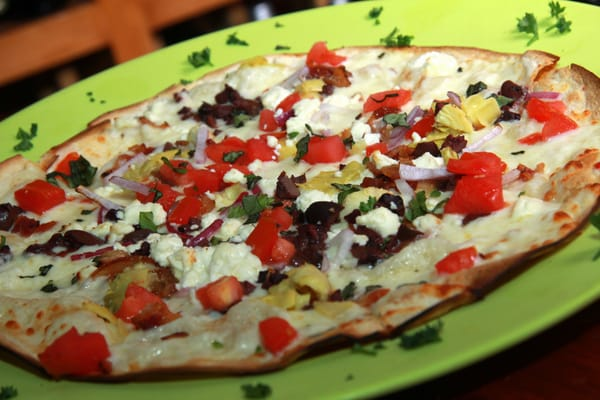sandwich: (0, 42, 598, 379)
